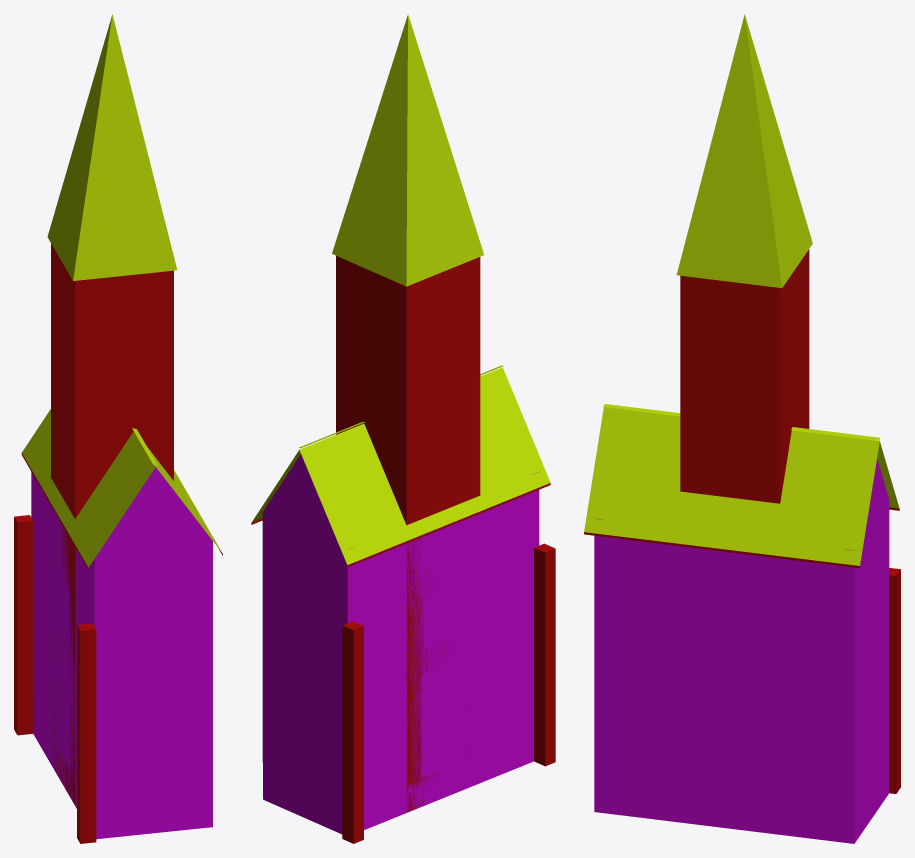
The model's file is eglise_1.glb.
3 views of the same model, side by side, from view 1: azimuth 30°, elevation 25°; view 2: azimuth 150°, elevation 25°; view 3: azimuth 270°, elevation 25° (orthographic). The views are drawn at different scales.
Visible parts, largest first — view 1: eglise_1; view 2: eglise_1; view 3: eglise_1.
Part boxes in pixels (x1,y1,x2,y2): eglise_1: (14, 14, 222, 843); eglise_1: (251, 14, 555, 843); eglise_1: (584, 14, 900, 843).
Size of the model in its own units: 10.75 by 41.55 by 15.21.
